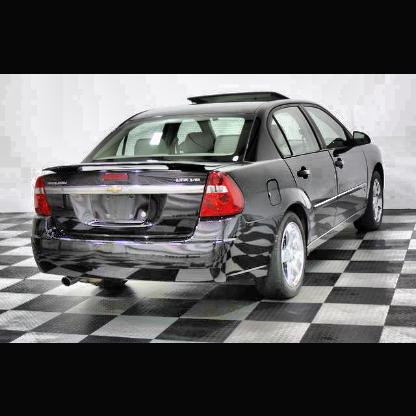Chevrolet Malibu Sedan 2007: (29, 91, 387, 301)
